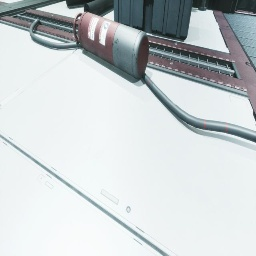NitrogenTank ,: (73, 12, 149, 80)
